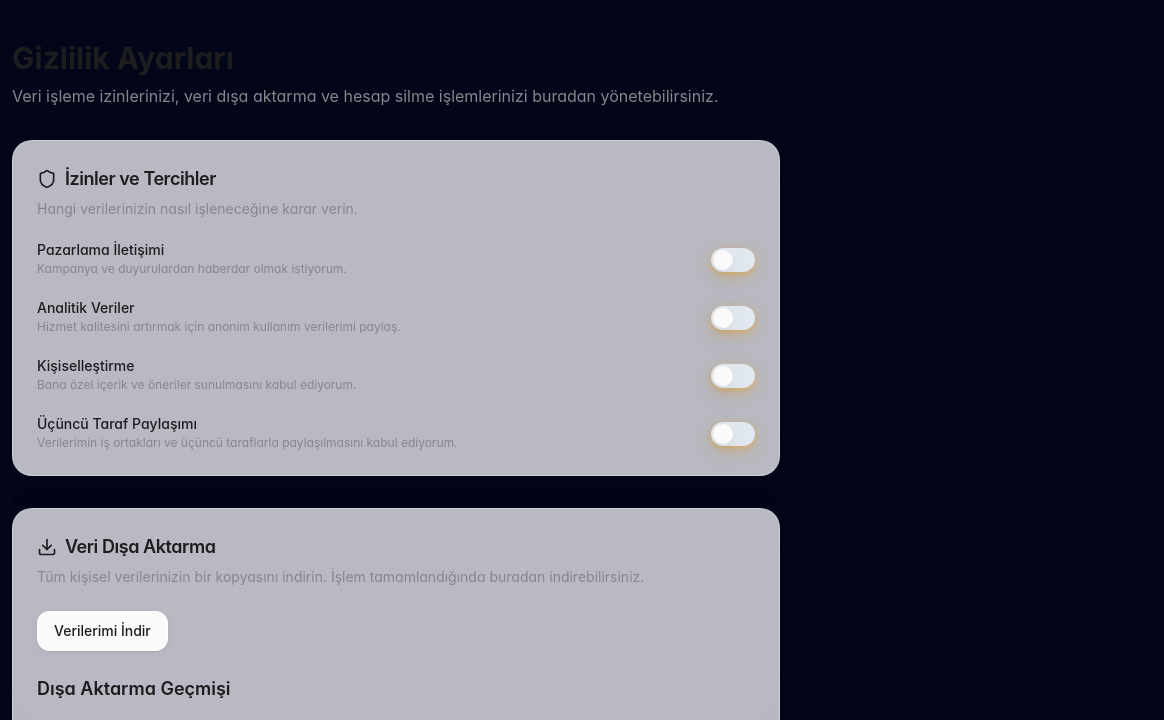
Test case: PrivacySettingsPage › handles 409 conflict error when duplicate export request
Expected: the heading "Gizlilik Ayarları" is shown, [12, 40, 234, 76]
Click the button "Verilerimi İndir".
click(102, 631)  # box [37, 611, 168, 651]
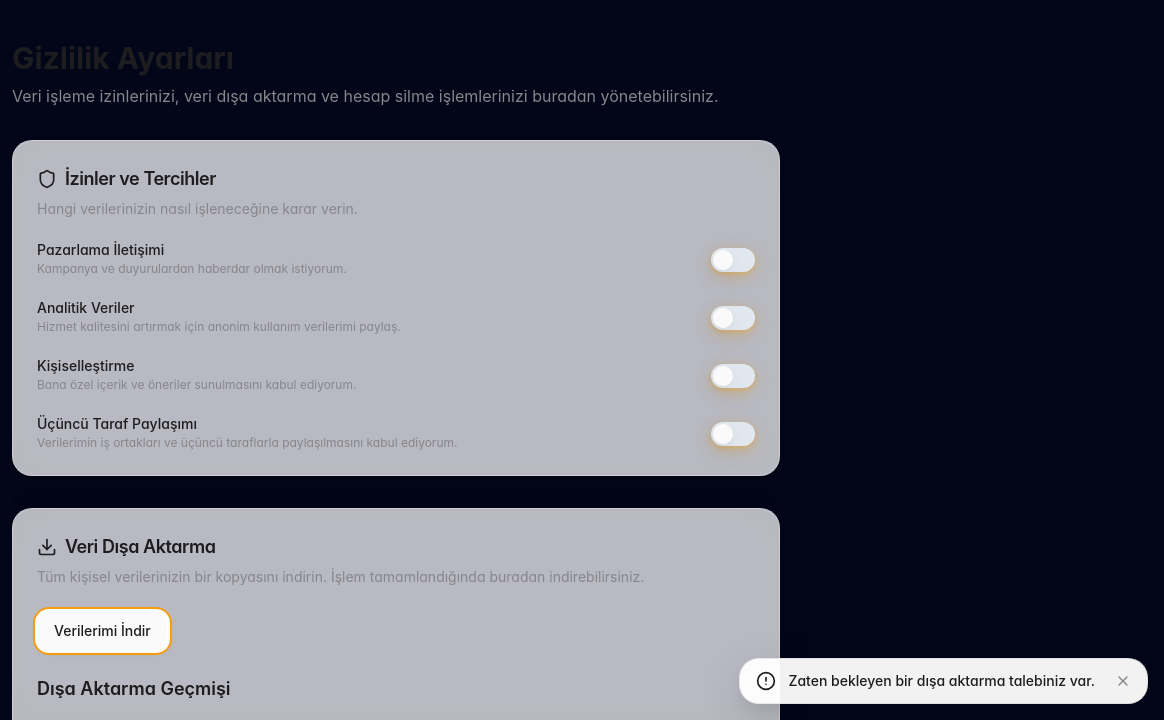
Expected: the text "Zaten bekleyen bir dışa aktarma talebiniz var." is shown, [788, 671, 1095, 691]
